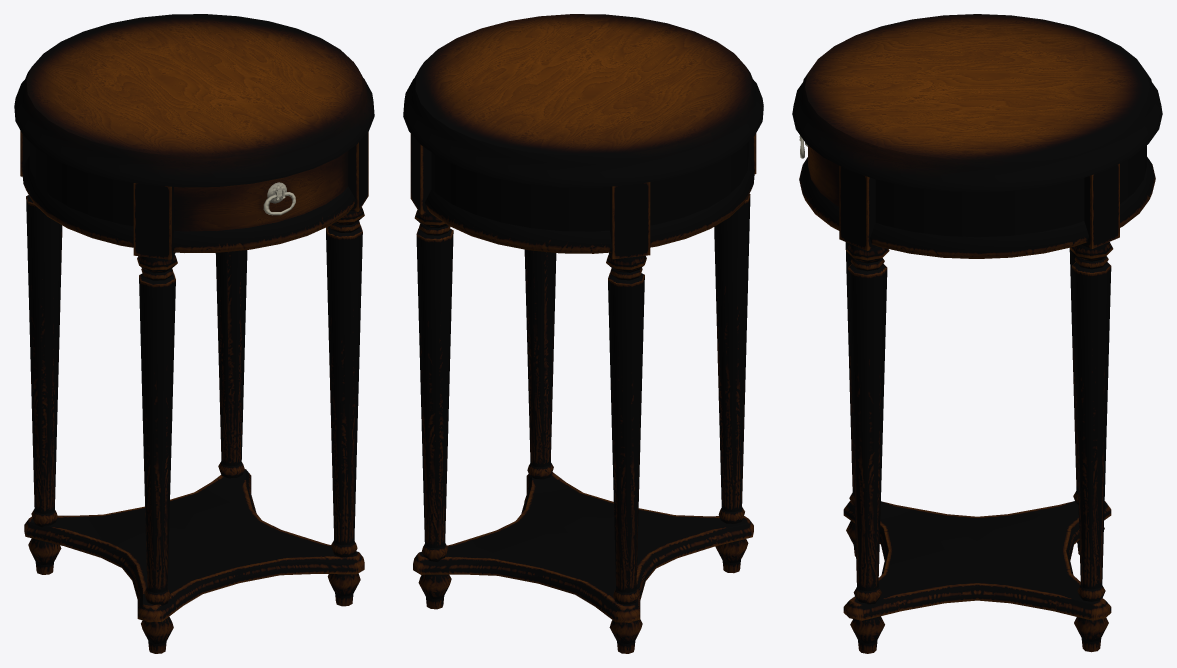
Rendered from Table_v2.fbx.
3 renders of one model, left to right at view 1: azimuth 30°, elevation 25°; view 2: azimuth 150°, elevation 25°; view 3: azimuth 270°, elevation 25°, orthographic. The views are drawn at different scales.
Visible parts, largest first — view 1: endtable1 top _low; view 2: endtable1 top _low; view 3: endtable1 top _low.
Part boxes in pixels (x1,y1,x2,y2): endtable1 top _low: [14, 14, 374, 653]; endtable1 top _low: [403, 14, 763, 653]; endtable1 top _low: [792, 14, 1162, 653].
Bounding box in the file's own units: 0.5038 × 0.7773 × 0.5038.
